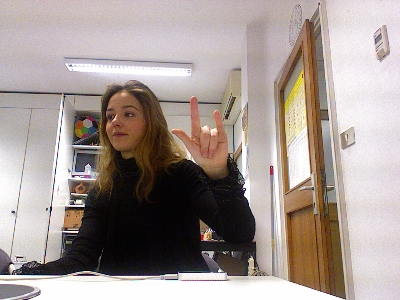我爱你: (169, 94, 229, 169)
